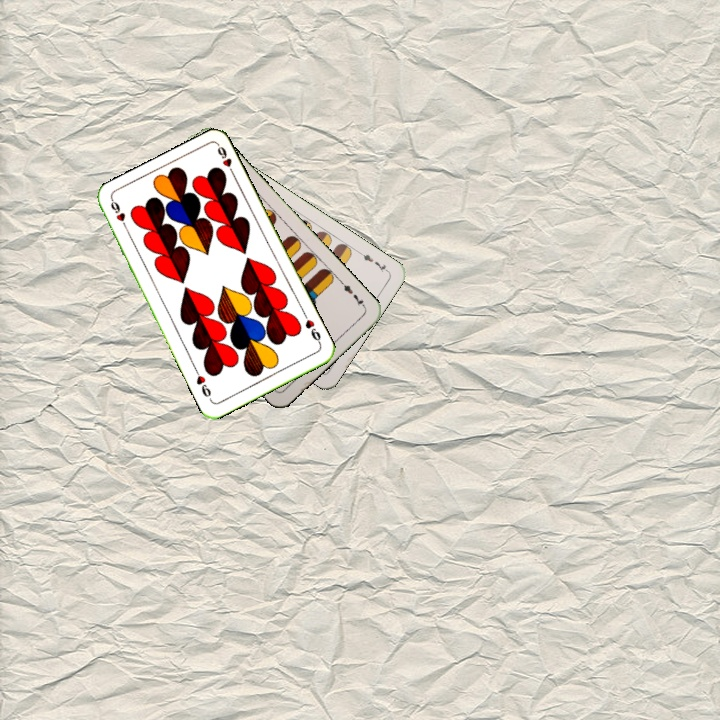E7: (337, 278, 368, 311), (355, 247, 391, 275)
H9: (107, 196, 131, 235), (300, 310, 324, 348)
